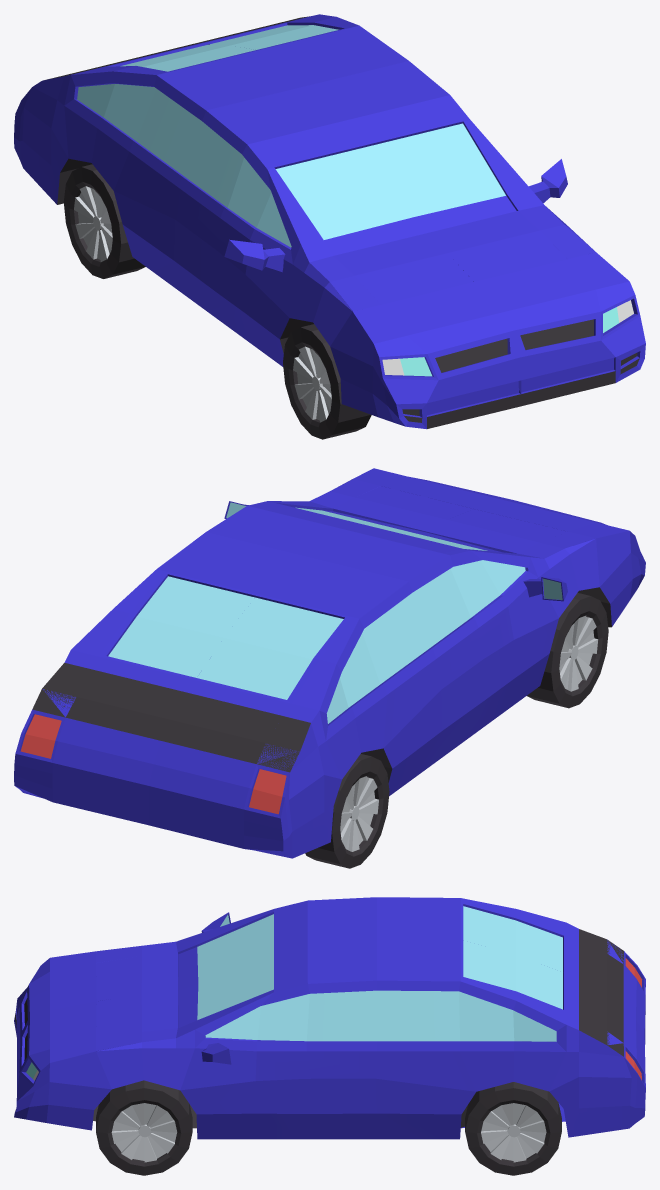
The model's file is car.fbx.
3 views of the same model, one above another, from view 1: azimuth 30°, elevation 25°; view 2: azimuth 150°, elevation 25°; view 3: azimuth 270°, elevation 25° (orthographic). The views are drawn at different scales.
Parts seen in each view (by area): view 1: chassis_Cube, wheel_front_right_Cube.004, wheel_back_right_Cube.003; view 2: chassis_Cube, wheel_front_right_Cube.004, wheel_back_right_Cube.003; view 3: chassis_Cube, wheel_front_left_Cube.001, wheel_back_left_Cube.002.
Part boxes in pixels (x1,y1,x2,y2): chassis_Cube: (14, 14, 645, 429); wheel_front_right_Cube.004: (283, 324, 371, 439); wheel_back_right_Cube.003: (63, 164, 145, 278); chassis_Cube: (14, 468, 645, 858); wheel_front_right_Cube.004: (527, 593, 608, 708); wheel_back_right_Cube.003: (305, 754, 389, 868); chassis_Cube: (14, 897, 645, 1139); wheel_front_left_Cube.001: (96, 1080, 192, 1175); wheel_back_left_Cube.002: (465, 1082, 561, 1175).
Bounding box in the file's own units: 310 × 188 × 593.
